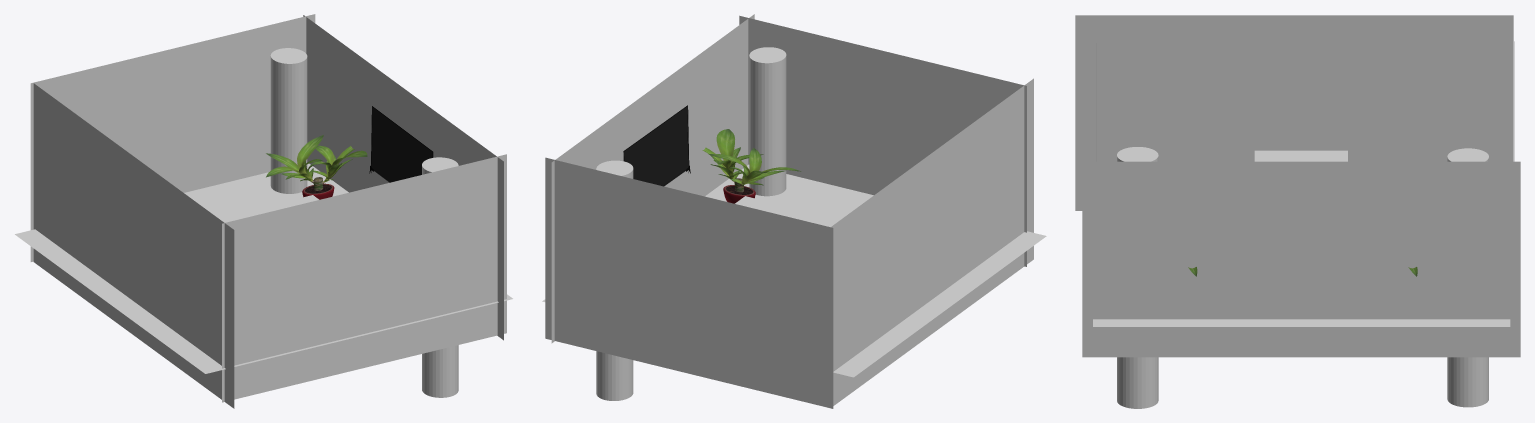
The model's file is meeting_room_.fbx.
The picture shows the model from 3 angles, left to right: view 1: azimuth 30°, elevation 25°; view 2: azimuth 150°, elevation 25°; view 3: azimuth 270°, elevation 25°; orthographic projection. The views are drawn at different scales.
Parts seen in each view (by area): view 1: Plane.005, Plane.003, Plane.004, Plane.001, Plane, Cylinder, Box002, indoor plant_02, Cylinder.001, Plane.002; view 2: Plane.004, Plane.003, Plane.005, Plane.001, Plane, Cylinder.001, Box002, indoor plant_02.001, Cylinder, Plane.002; view 3: Plane.001, Plane.003, Plane, Cylinder.001, Cylinder, Plane.002.
Part boxes in pixels (left/top/right/bottom): Plane.005: left=222, top=154, right=506, bottom=402; Plane.003: left=33, top=83, right=234, bottom=408; Plane.004: left=30, top=14, right=315, bottom=261; Plane.001: left=303, top=15, right=503, bottom=340; Plane: left=15, top=163, right=512, bottom=373; Cylinder: left=270, top=48, right=307, bottom=193; Box002: left=369, top=106, right=433, bottom=182; indoor plant_02: left=266, top=135, right=367, bottom=199; Cylinder.001: left=422, top=157, right=458, bottom=397; Plane.002: left=218, top=195, right=319, bottom=222; Plane.004: left=545, top=157, right=833, bottom=408; Plane.003: left=831, top=78, right=1033, bottom=405; Plane.005: left=739, top=15, right=1026, bottom=266; Plane.001: left=551, top=14, right=754, bottom=343; Plane: left=542, top=164, right=1046, bottom=377; Cylinder.001: left=749, top=47, right=786, bottom=196; Box002: left=623, top=105, right=690, bottom=186; indoor plant_02.001: left=702, top=129, right=801, bottom=203; Cylinder: left=596, top=160, right=633, bottom=400; Plane.002: left=735, top=196, right=840, bottom=227; Plane.001: left=1082, top=161, right=1520, bottom=357; Plane.003: left=1075, top=15, right=1513, bottom=210; Plane: left=1093, top=319, right=1510, bottom=326; Cylinder.001: left=1117, top=147, right=1158, bottom=408; Cylinder: left=1447, top=148, right=1488, bottom=407; Plane.002: left=1254, top=150, right=1347, bottom=161.
Bounding box in the file's own units: 1836 × 1303 × 2022.
